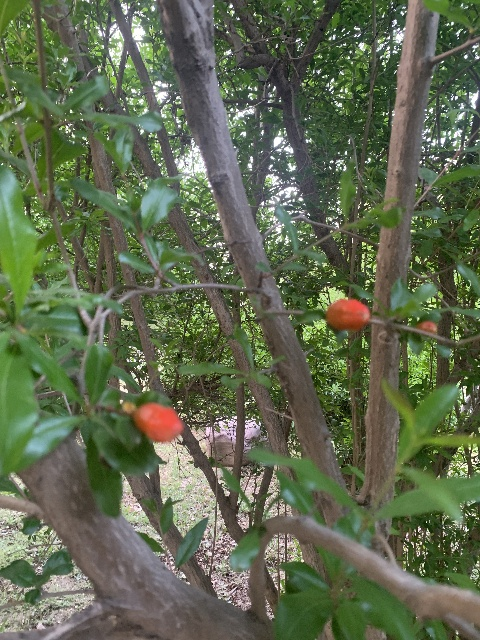bud: (132, 403, 183, 443), (324, 298, 370, 330), (415, 320, 437, 333)
